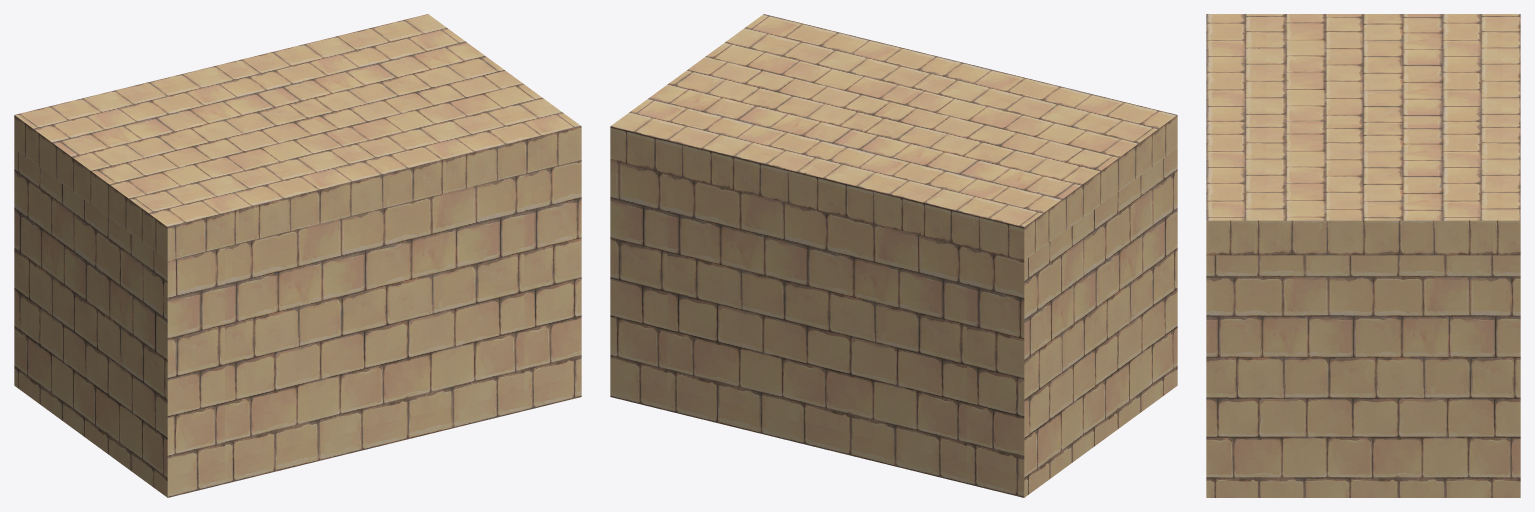
File: Floor.fbx
The picture shows the model from 3 angles, left to right: view 1: azimuth 30°, elevation 25°; view 2: azimuth 150°, elevation 25°; view 3: azimuth 270°, elevation 25°; orthographic projection. The views are drawn at different scales.
Visible parts, largest first — view 1: pPlane1; view 2: pPlane1; view 3: pPlane1.
Boxes of the visible parts, x1,y1,x2,y2 form: pPlane1: (14,14,581,497); pPlane1: (610,14,1177,497); pPlane1: (1206,14,1520,497).
Bounding box in the file's own units: 2052 × 1283 × 1318.
